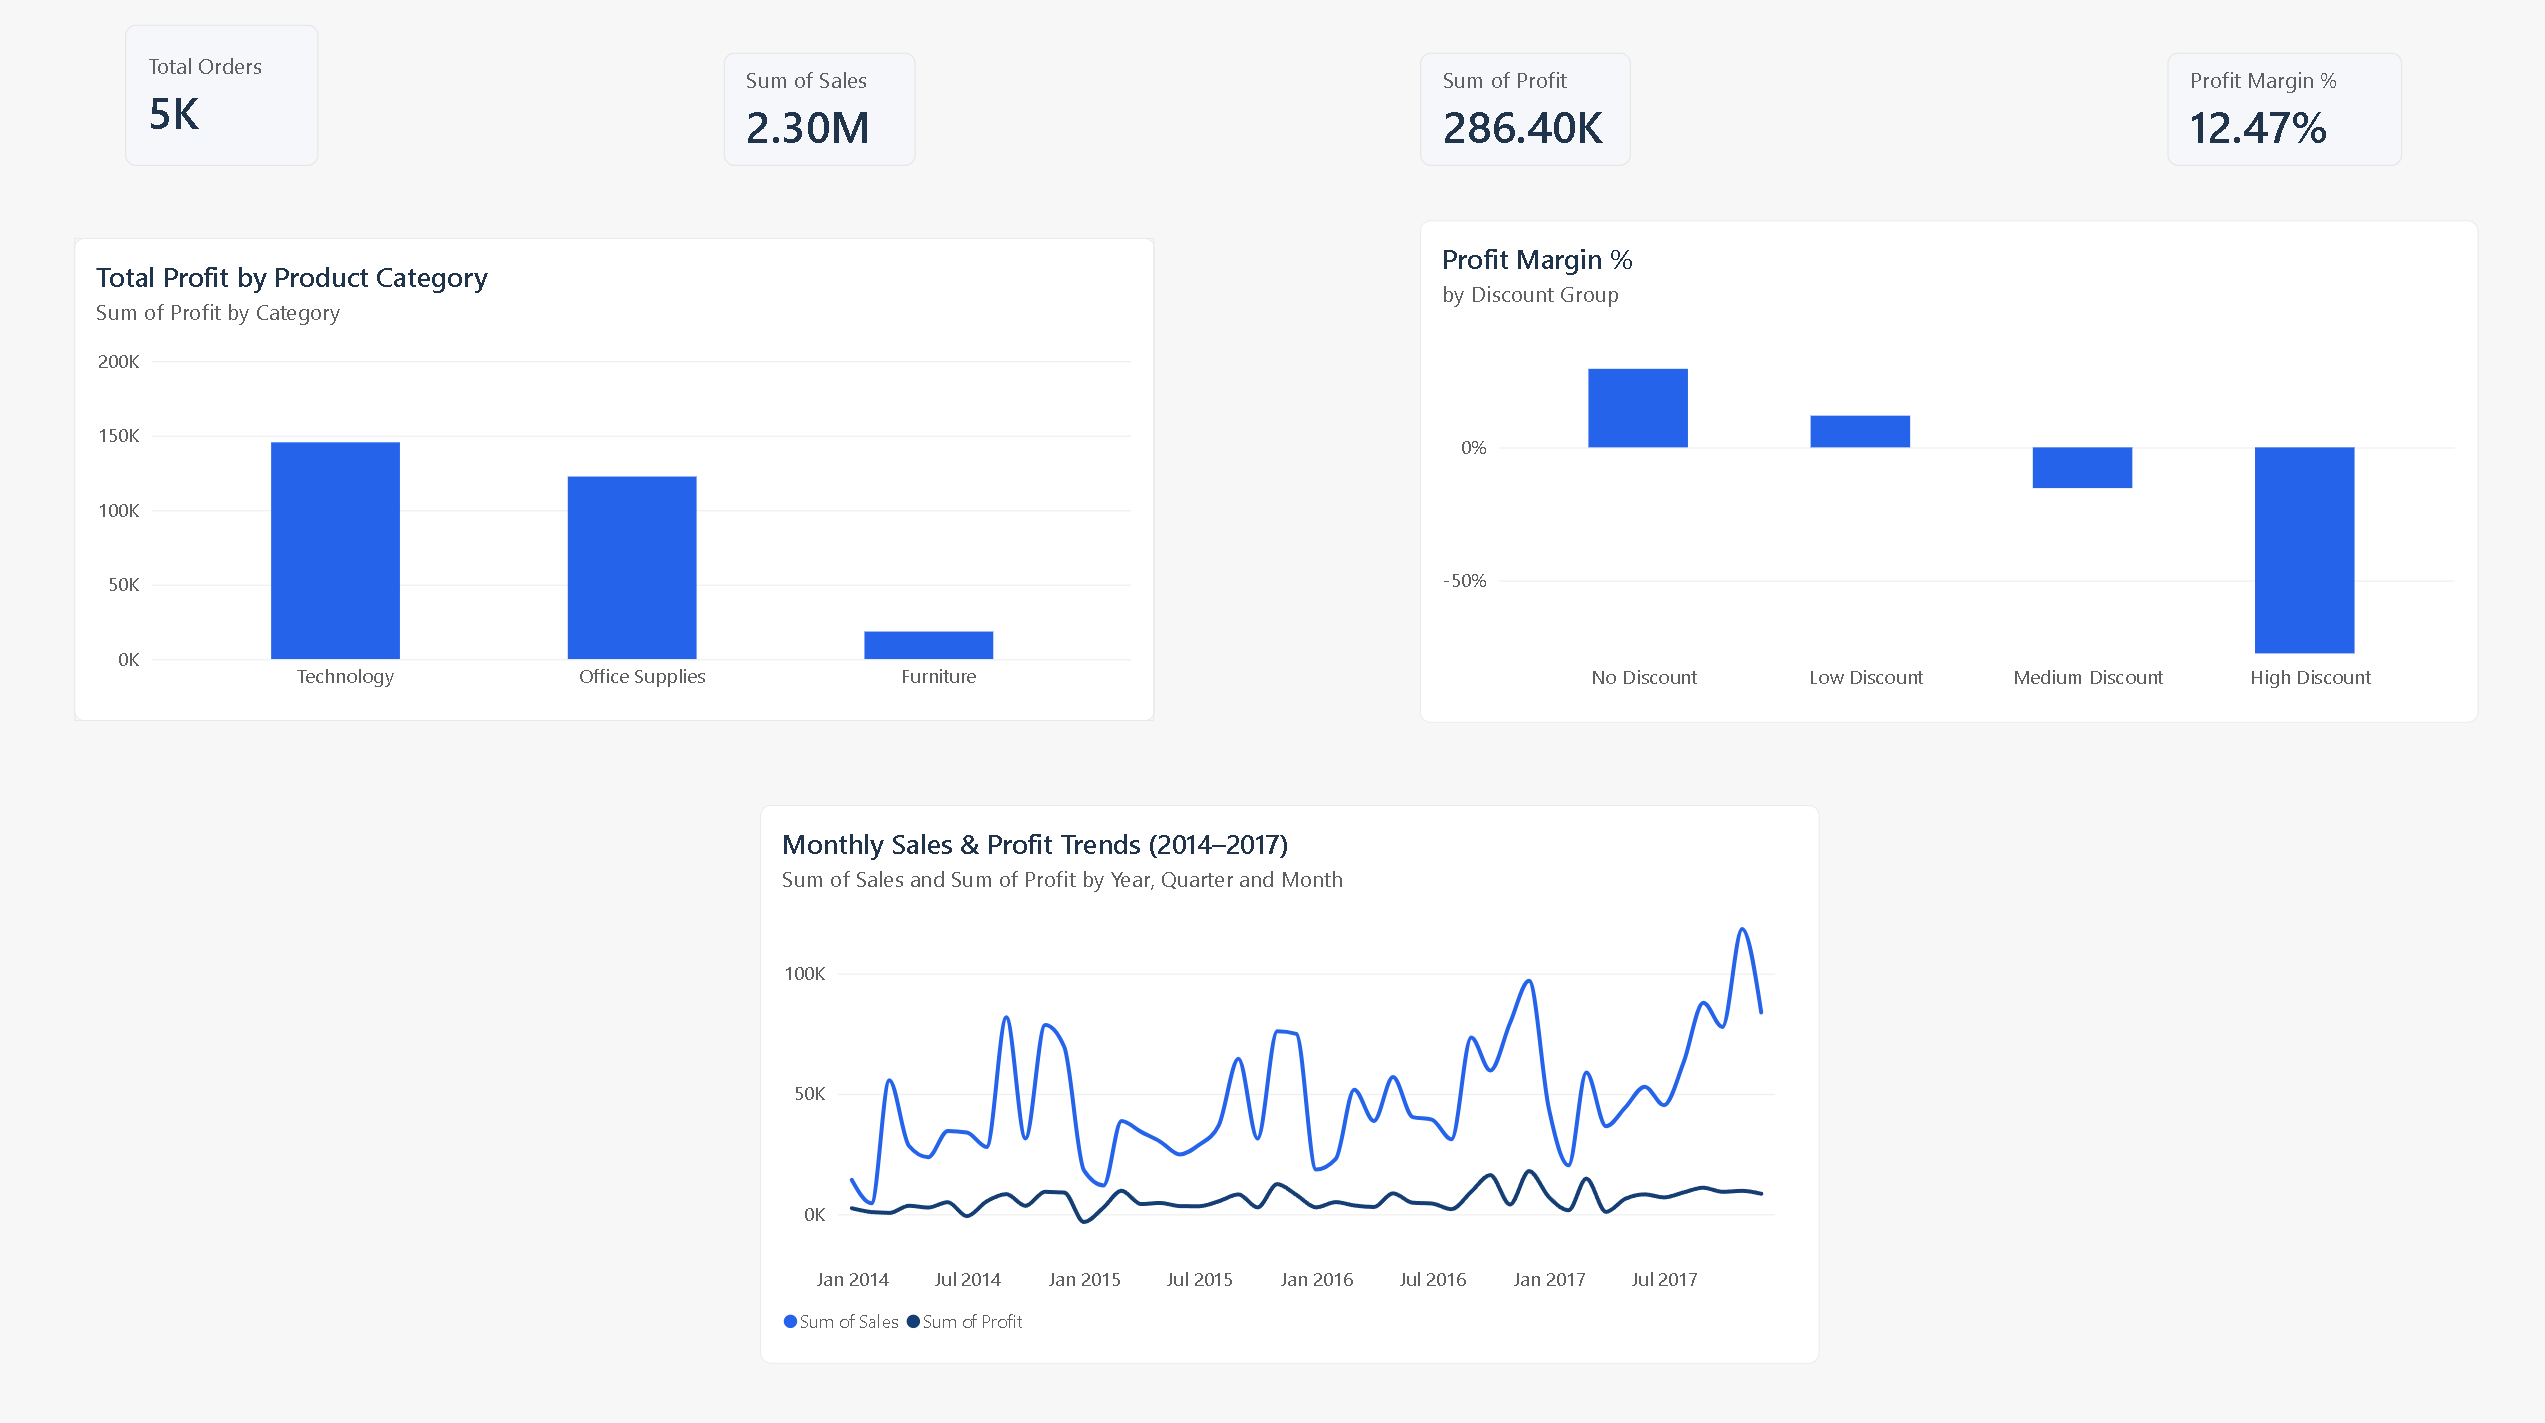

What the dashboard file says about the page in this screenshot:
{"tool":"powerbi","page":{"name":"Page 1","canvas":[1920,1080],"ordinal":0},"visuals":[{"type":"lineChart","title":"Monthly Sales & Profit Trends (2014–2017)","fields":{"Category":["Sample_Superstore.Order Date.Variation.Date Hierarchy.Year","Sample_Superstore.Order Date.Variation.Date Hierarchy.Quarter","Sample_Superstore.Order Date.Variation.Date Hierarchy.Month","Sample_Superstore.Order Date.Variation.Date Hierarchy.Day"],"Y":["Sum(Sample_Superstore.Sales)","Sum(Sample_Superstore.Profit)"]},"box":[580.3,613.5,793,418.2],"z":0},{"type":"clusteredColumnChart","title":"Total Profit by Product Category","fields":{"Category":["Sample_Superstore.Category"],"Y":["Sum(Sample_Superstore.Profit)"]},"box":[66.5,189.2,809.1,361.7],"z":2},{"type":"clusteredColumnChart","fields":{"Category":["Sample_Superstore.Discount Group"],"Y":["Sample_Superstore.Profit Margin %"]},"box":[1074.9,175.1,792.5,375.8],"z":3},{"type":"cardVisual","fields":{"Data":["Sum(Sample_Superstore.Sales)"]},"box":[553.5,49.8,144.6,85.6],"z":4},{"type":"cardVisual","fields":{"Data":["Sample_Superstore.Total Orders"]},"box":[104.8,29.4,145.7,106.1],"z":5},{"type":"cardVisual","fields":{"Data":["Sample_Superstore.Profit Margin %"]},"box":[1633.5,49.8,176.4,85.6],"z":6},{"type":"cardVisual","title":"total profit","fields":{"Data":["Sum(Sample_Superstore.Profit)"]},"box":[1074.9,49.8,158.5,85.6],"z":7}]}

Visuals, with their boxes in screenshot pixels (x1, y1, x2, y2), scaled from the page's 1920x1080 canvas onto the 2545x1423 screenshot:
"Monthly Sales & Profit Trends (2014–2017)" lineChart: locate(769, 808, 1820, 1359)
"Total Profit by Product Category" clusteredColumnChart: locate(88, 249, 1161, 726)
clusteredColumnChart - Sample_Superstore.Discount Group x Sample_Superstore.Profit Margin %: locate(1425, 231, 2475, 726)
cardVisual - Sum(Sample_Superstore.Sales): locate(734, 66, 925, 178)
cardVisual - Sample_Superstore.Total Orders: locate(139, 39, 332, 179)
cardVisual - Sample_Superstore.Profit Margin %: locate(2165, 66, 2399, 178)
"total profit" cardVisual: locate(1425, 66, 1635, 178)
